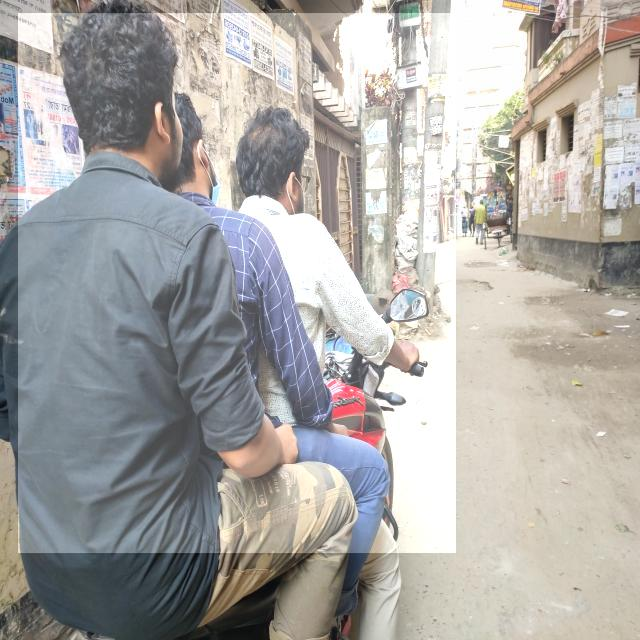Overloading: (18, 13, 456, 553)
